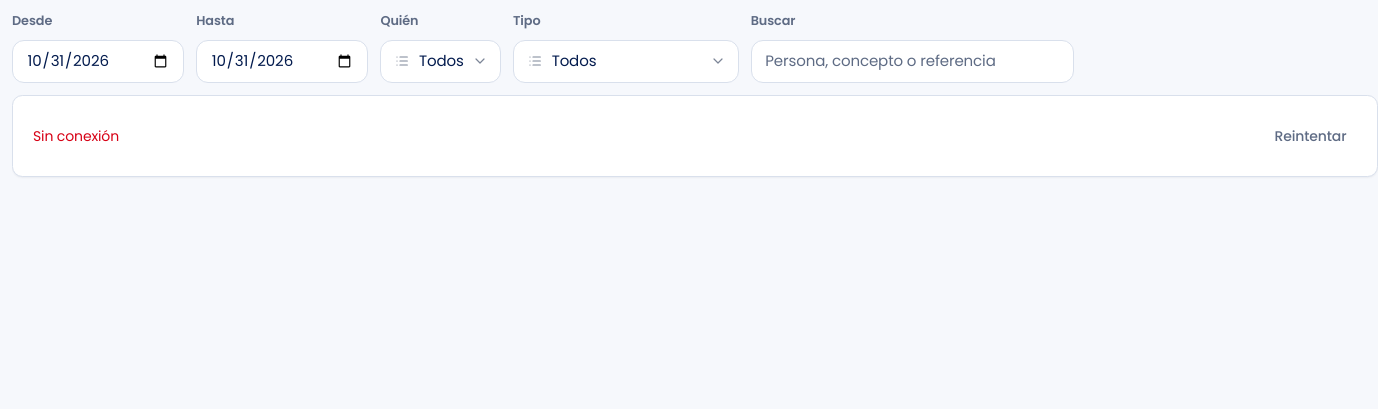
Test case: estados del corte de caja › si no se pudo consultar, lo dice (sin totales de otro rango) y reintenta
Expected: the message "Sin conexión Reintentar" is shown, [33,116,1357,156]
Expected: the text "$500.00" is not shown
Click the button "Reintentar".
click(1310, 136)  # box [1264,116,1357,156]
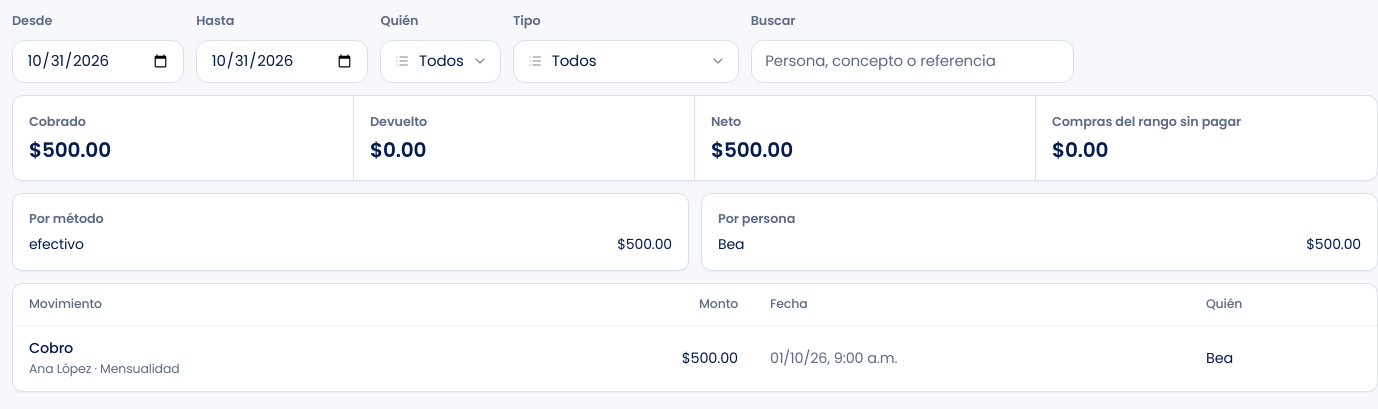
Expected: the text "Mensualidad" is shown, [29,360,180,377]
